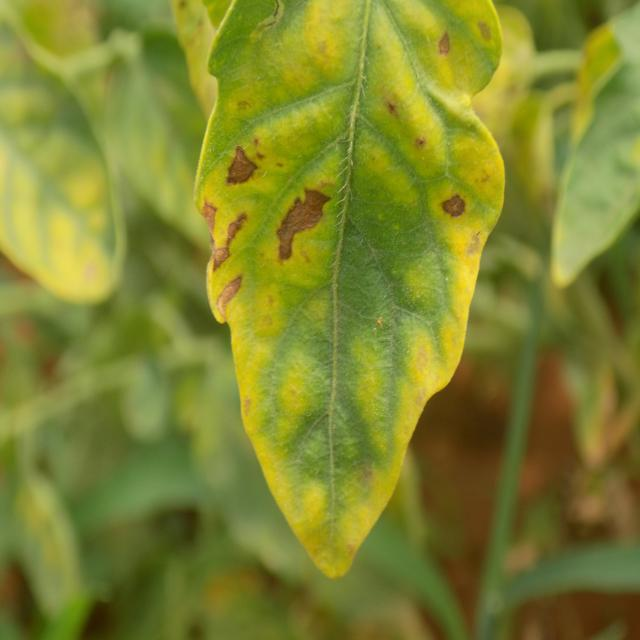tomato_early blight: (186, 0, 506, 577)
